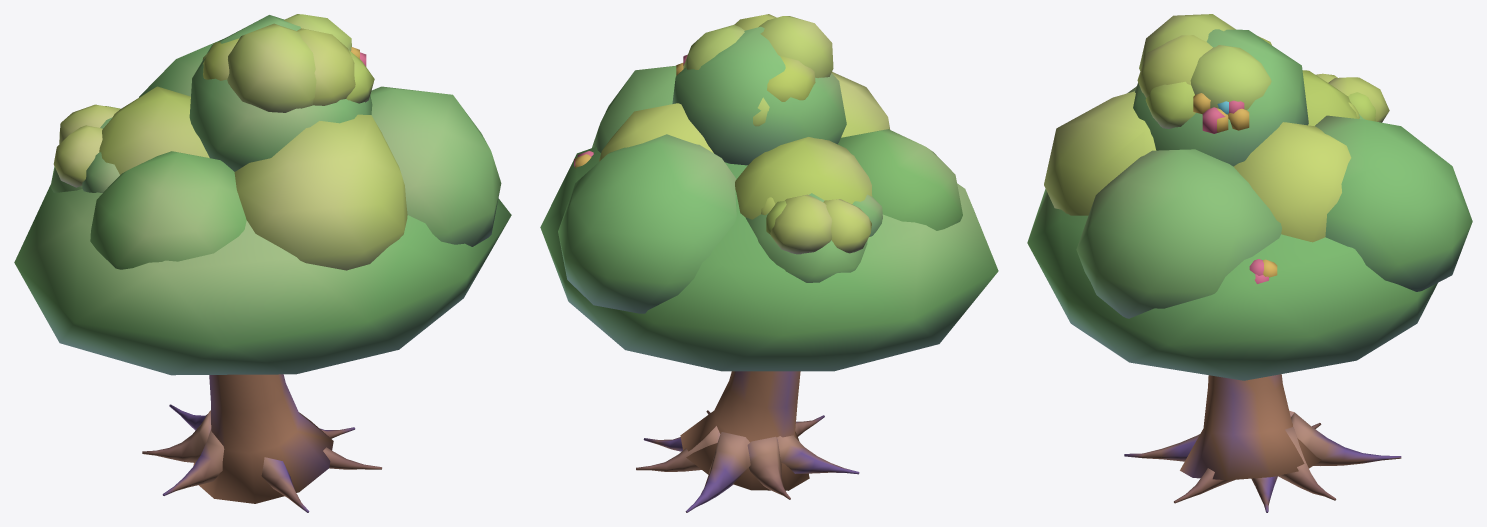
The model's file is verdant_tree_puffcap_c.glb.
The picture shows the model from 3 angles, left to right: view 1: azimuth 30°, elevation 25°; view 2: azimuth 150°, elevation 25°; view 3: azimuth 270°, elevation 25°; orthographic projection. The views are drawn at different scales.
Parts seen in each view (by area): view 1: verdant_tree_puffcap_c; view 2: verdant_tree_puffcap_c; view 3: verdant_tree_puffcap_c.
Boxes of the visible parts, box(x1,y1,x2,y2) form: verdant_tree_puffcap_c: box(14, 14, 511, 512); verdant_tree_puffcap_c: box(540, 14, 998, 512); verdant_tree_puffcap_c: box(1027, 14, 1472, 512).
Size of the model in its own units: 8.54 by 8.83 by 7.78.
